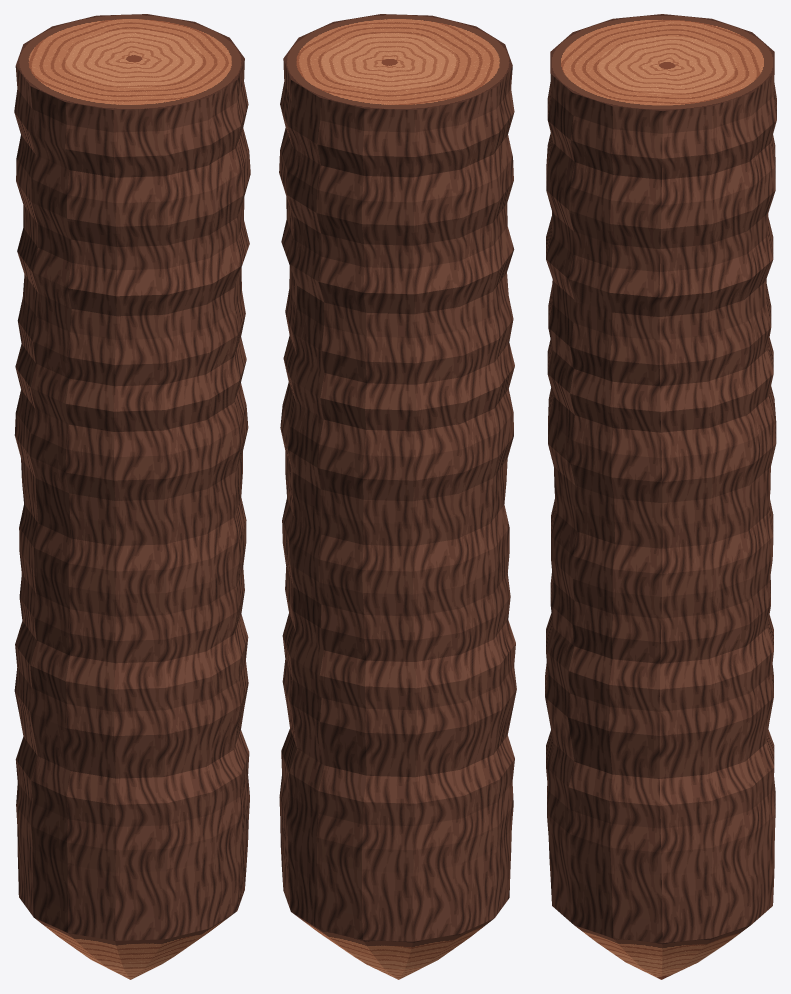
File: environment_redwood4_log_v2.fbx
3 renders of one model, left to right at view 1: azimuth 30°, elevation 25°; view 2: azimuth 150°, elevation 25°; view 3: azimuth 270°, elevation 25°, orthographic.
Parts seen in each view (by area): view 1: environment_redwood4_log_v2; view 2: environment_redwood4_log_v2; view 3: environment_redwood4_log_v2.
Part boxes in pixels (x1,y1,x2,y2): environment_redwood4_log_v2: (14, 14, 250, 979); environment_redwood4_log_v2: (279, 14, 516, 979); environment_redwood4_log_v2: (545, 14, 776, 979).
Bounding box in the file's own units: 470 × 2000 × 458.
